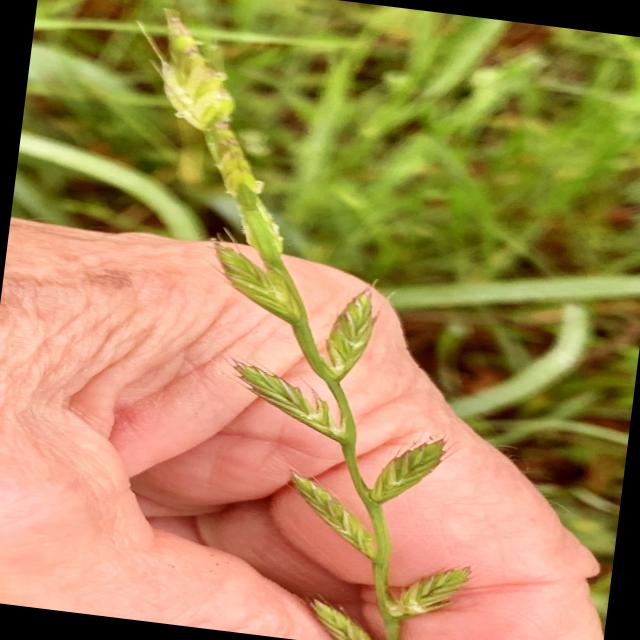Lolium: (58, 3, 538, 640)
